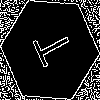T: (25, 25, 74, 73)
